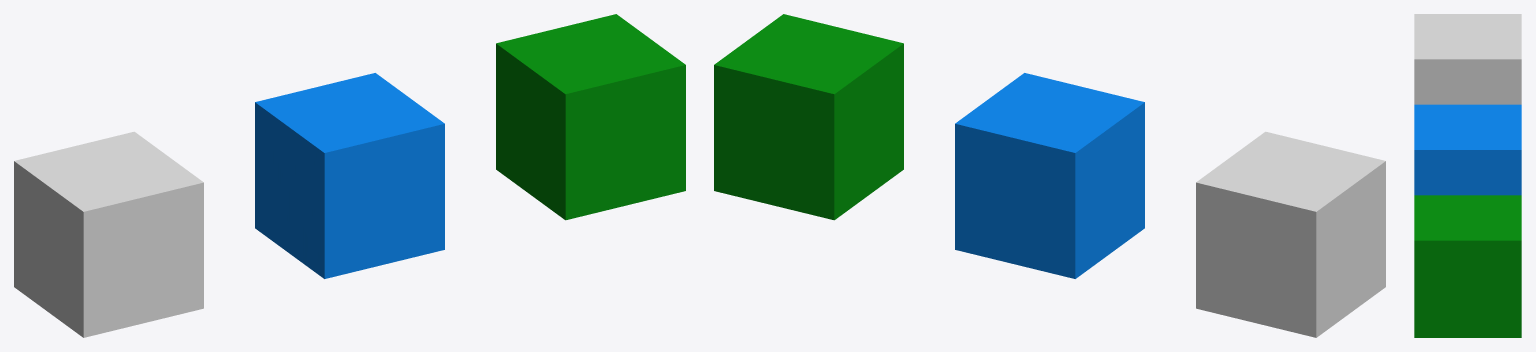
The model's file is Blocz.glb.
3 renders of one model, left to right at view 1: azimuth 30°, elevation 25°; view 2: azimuth 150°, elevation 25°; view 3: azimuth 270°, elevation 25°, orthographic. The views are drawn at different scales.
Parts seen in each view (by area): view 1: Cube, Cube.001, Cube.002; view 2: Cube, Cube.001, Cube.002; view 3: Cube.001, Cube.002, Cube.
Boxes of the visible parts, box(x1,y1,x2,y2) form: Cube: box(14, 131, 203, 337); Cube.001: box(496, 14, 685, 220); Cube.002: box(255, 73, 444, 278); Cube: box(1196, 131, 1385, 337); Cube.001: box(714, 14, 903, 220); Cube.002: box(955, 73, 1144, 278); Cube.001: box(1414, 195, 1521, 337); Cube.002: box(1414, 104, 1521, 195); Cube: box(1414, 14, 1521, 104).
Size of the model in its own units: 5 by 1 by 1.
